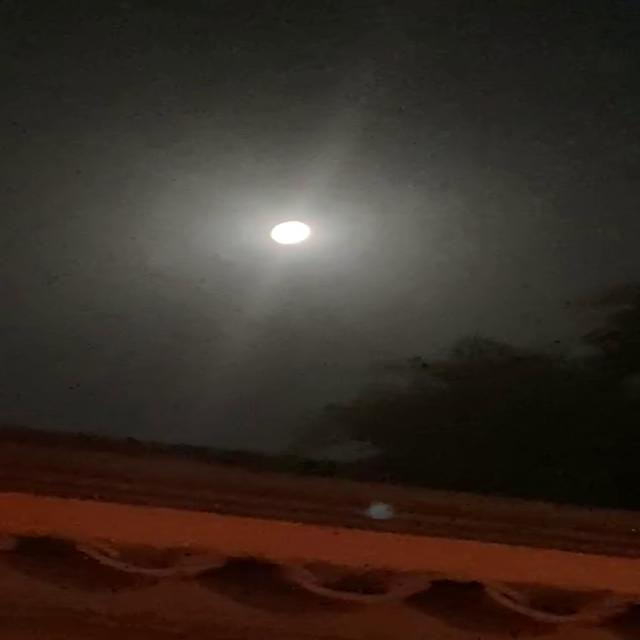moon: (273, 215, 316, 259)
